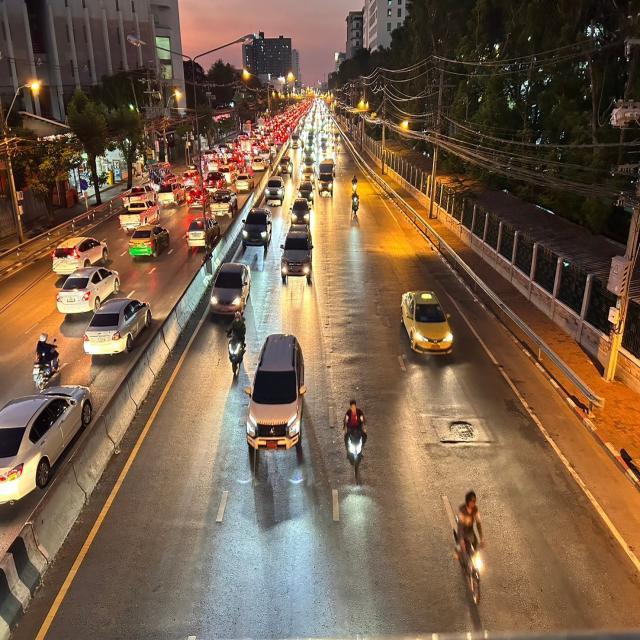bike: (449, 485, 496, 605), (341, 388, 371, 481), (222, 300, 252, 380)
